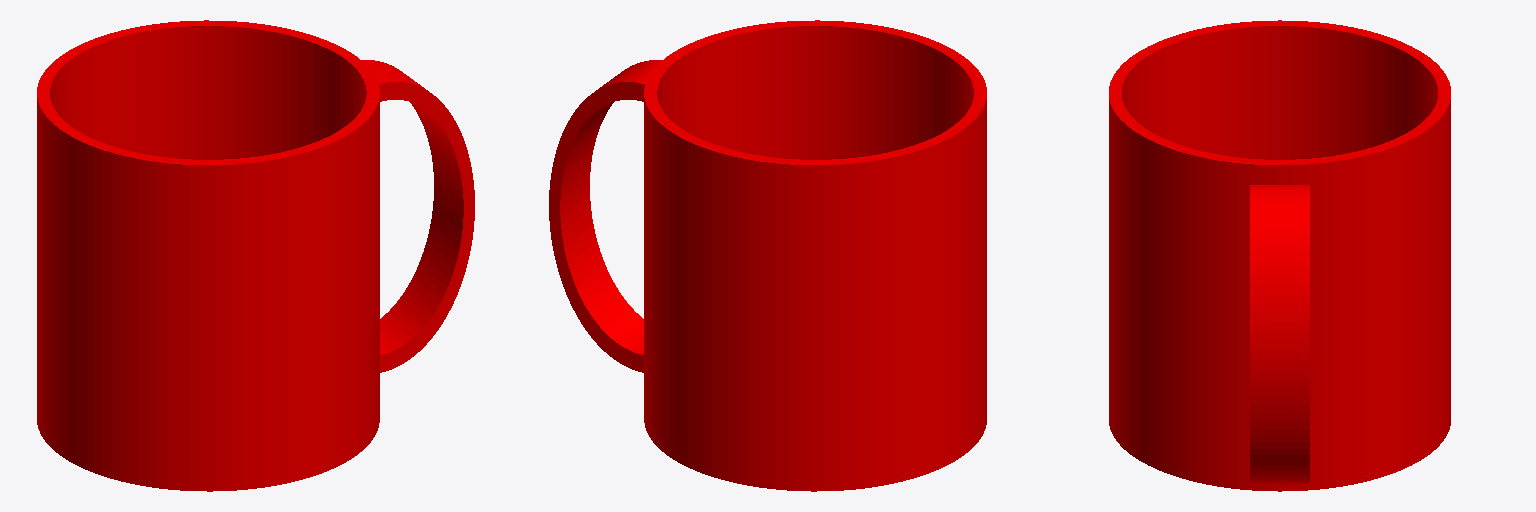
robot.urdf — mug.urdf:
<?xml version="1.0" ?>
<robot name="mug.urdf">
  <link name="baseLink">
    <inertial>
      <origin rpy="0 0 0" xyz="0 0 0"/>
       <mass value=".1"/>
       <inertia ixx="1" ixy="0" ixz="0" iyy="1" iyz="0" izz="1"/>
    </inertial>
    <contact>
      <lateral_friction value="1.0"/>
      <inertia_scaling value="3.0"/>
    </contact>
    <visual>
      <origin rpy="0 0 0" xyz="0 0 0"/>
      <geometry>
        <mesh filename="18.stl" scale="1 1 1" />
      </geometry>
      <material name="red">
        <color rgba="1 0 0 1"/>
      </material>
    </visual>
    <collision>
      <origin rpy="0 0 0" xyz="0 0 0"/>
      <geometry>
        <mesh filename="18_convex.obj" scale="1 1 1" />
      </geometry>
    </collision>
  </link>
</robot>

--- Render facts (derived) ---
Views: 3 orthographic renders of the robot side by side, from view 1: azimuth 30°, elevation 25°; view 2: azimuth 150°, elevation 25°; view 3: azimuth 270°, elevation 25°.
Model mug.urdf with 1 links and 0 joints (none), rooted at baseLink, posed every joint at zero.
Visible links, largest first — view 1: baseLink; view 2: baseLink; view 3: baseLink.
Boxes of the visible links, bbox=[...] form: baseLink: bbox=[37, 20, 474, 491]; baseLink: bbox=[549, 20, 986, 491]; baseLink: bbox=[1109, 20, 1450, 491].
Bounding box of the posed robot: 0.1768 × 0.1312 × 0.1377 m (x, y, z).
1 mesh visuals loaded from 1 distinct referenced files (1 binary STL).